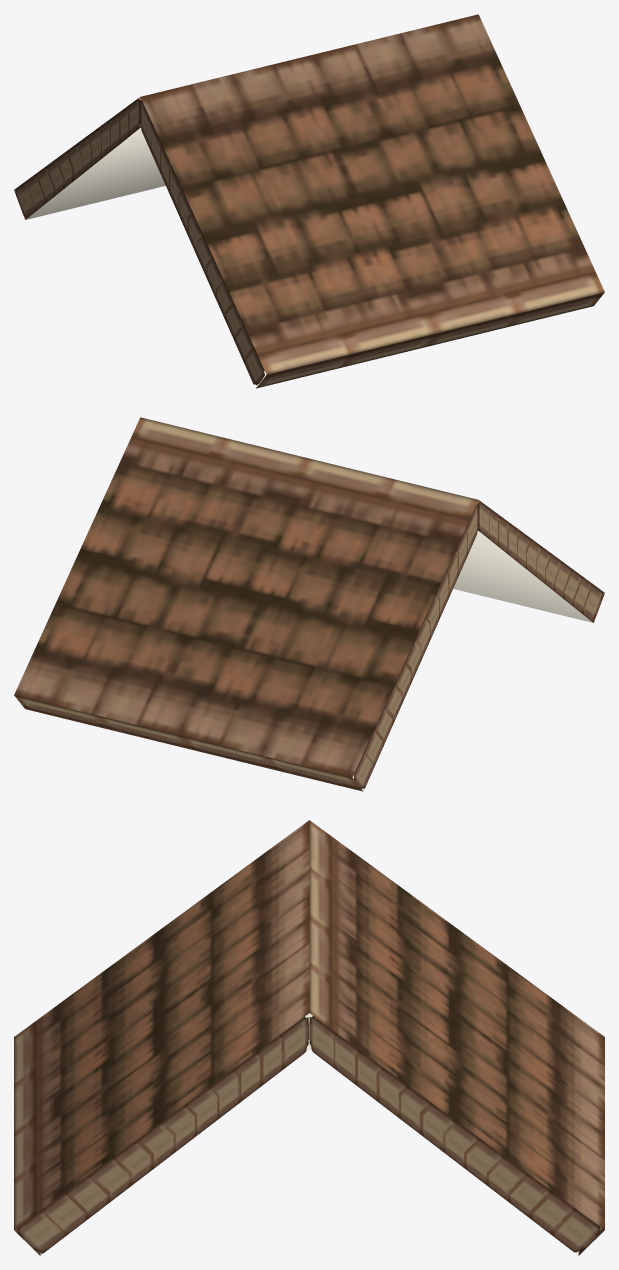
Rendered from roof_long_03.fbx.
3 views of the same model, one above another, from view 1: azimuth 30°, elevation 25°; view 2: azimuth 150°, elevation 25°; view 3: azimuth 270°, elevation 25° (orthographic). The views are drawn at different scales.
Visible parts, largest first — view 1: roof_long_03_export; view 2: roof_long_03_export; view 3: roof_long_03_export.
Part boxes in pixels (left/top/right/bottom): roof_long_03_export: left=14, top=14, right=604, bottom=388; roof_long_03_export: left=14, top=417, right=604, bottom=791; roof_long_03_export: left=14, top=820, right=604, bottom=1255.
Size of the model in its own units: 91.14 by 53.43 by 118.
1 material, 1 textured.
